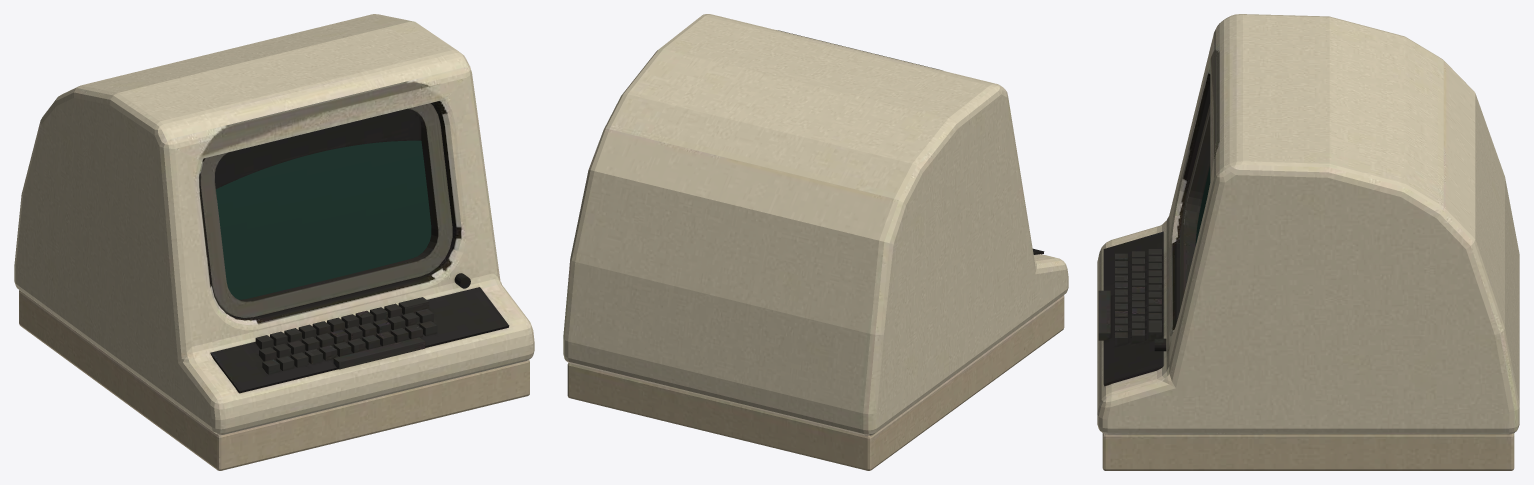
The model's file is terminal-c.glb.
The picture shows the model from 3 angles, left to right: view 1: azimuth 30°, elevation 25°; view 2: azimuth 150°, elevation 25°; view 3: azimuth 270°, elevation 25°; orthographic projection. The views are drawn at different scales.
Visible parts, largest first — view 1: case-baked, screen-glass; view 2: case-baked; view 3: case-baked.
Boxes of the visible parts, x1,y1,x2,y2 form: case-baked: (14,14,534,470); screen-glass: (216,140,431,299); case-baked: (563,14,1068,470); case-baked: (1097,14,1519,470).
Size of the model in its own units: 0.3606 by 0.3197 by 0.4.
Materials: 2 (1 with a texture image).
